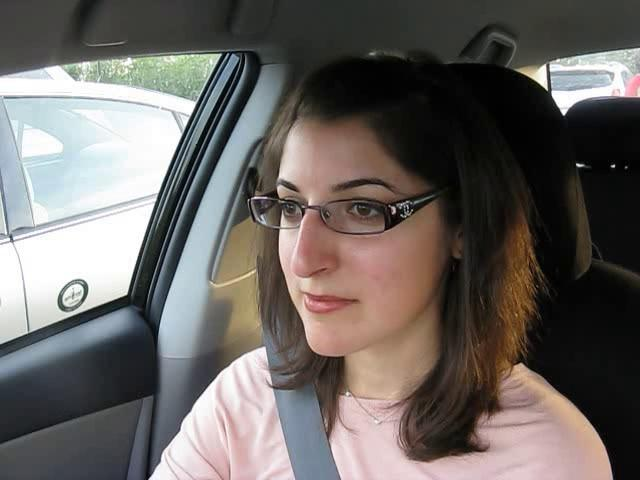no_yawn: (283, 277, 369, 326)
open_eyeL: (261, 193, 316, 231)
open_eyeR: (327, 190, 403, 236)
